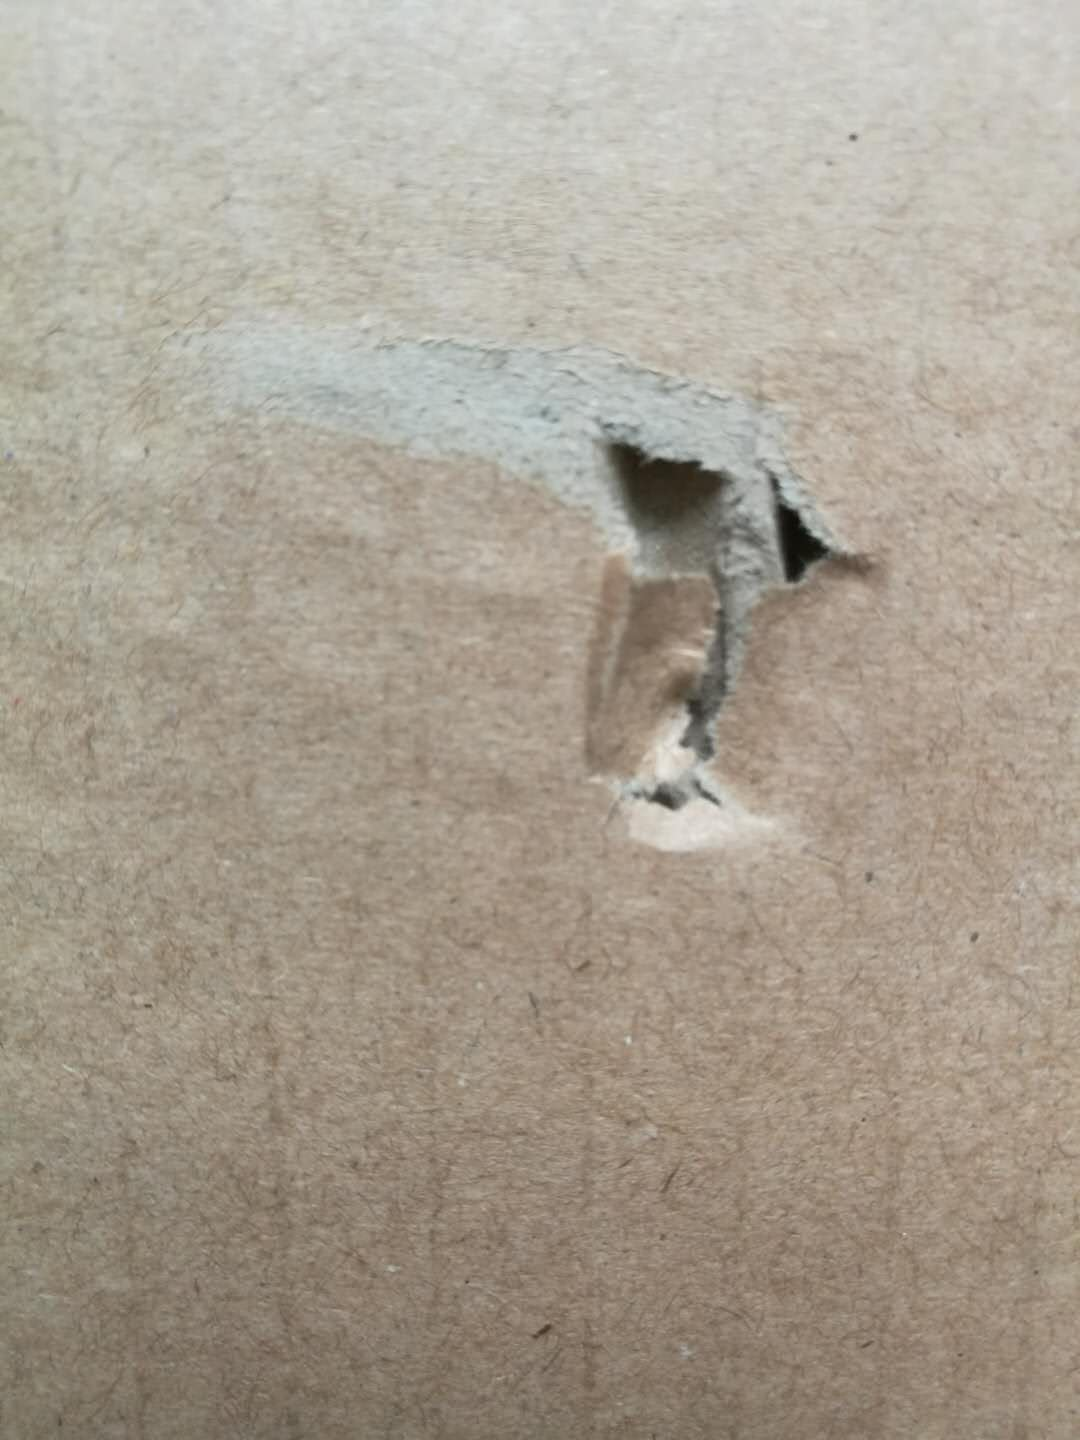defect: (155, 276, 928, 903)
